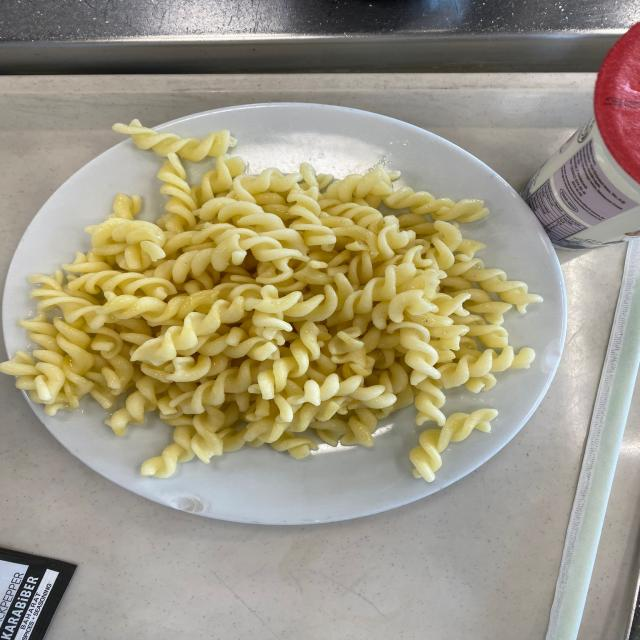ana_yemek: (2, 116, 545, 486)
